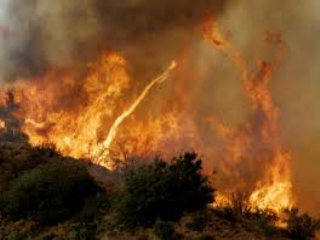fire: (4, 61, 176, 165), (215, 157, 296, 213)
smoke: (58, 1, 233, 37)
